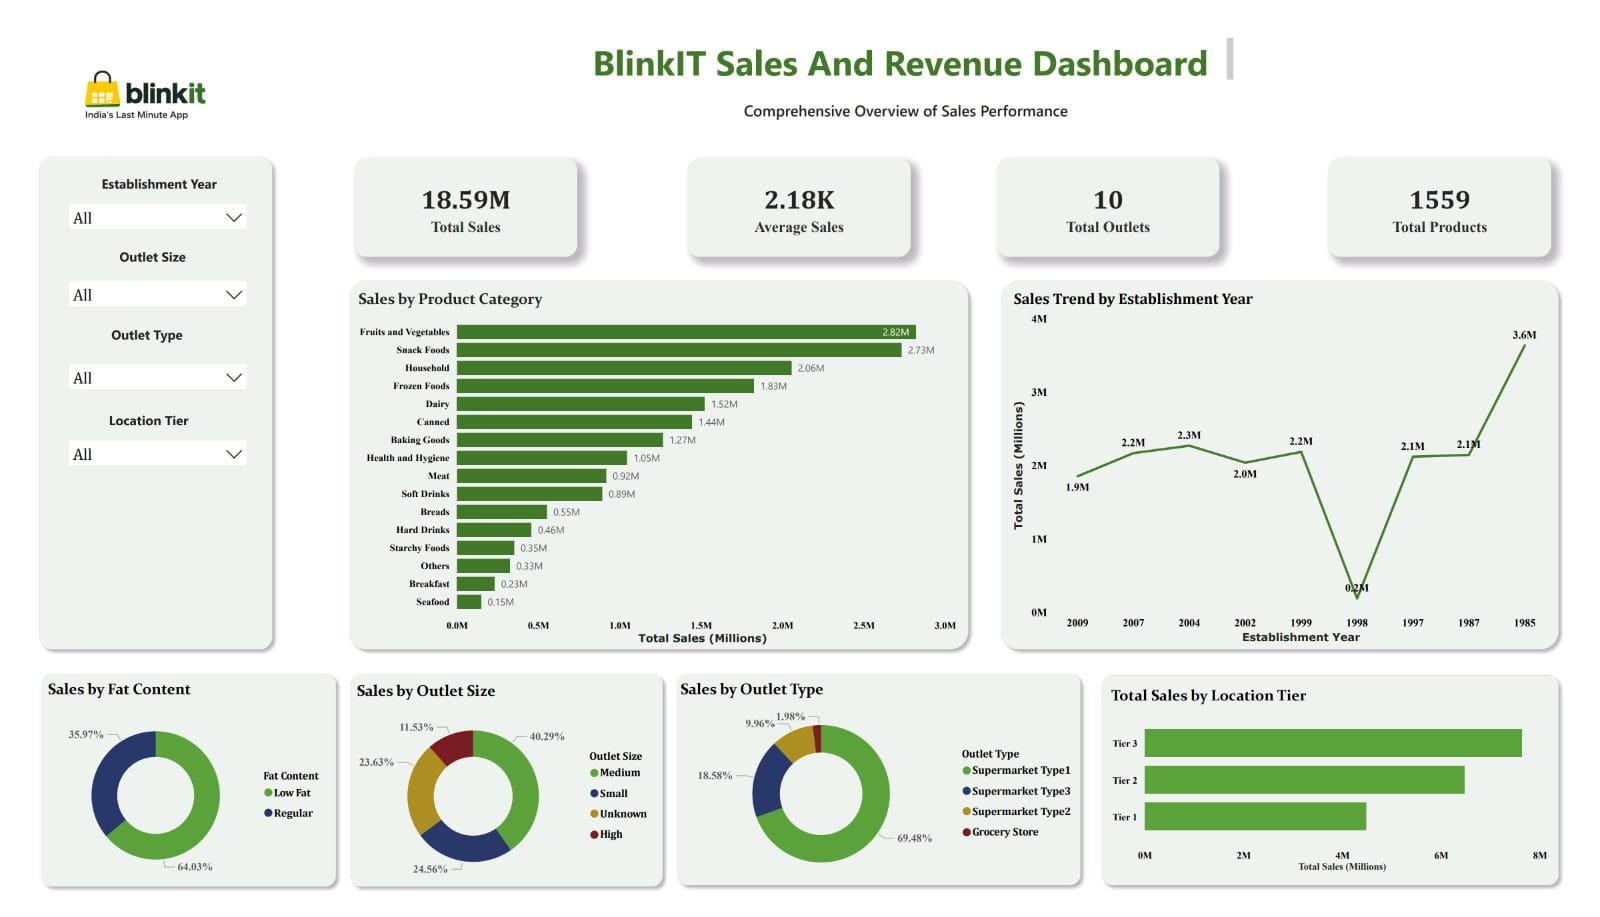

Layout of this report page (visuals, bound fields, positions):
{"tool":"powerbi","page":{"name":"Page 1","canvas":[1920,1080],"ordinal":0},"visuals":[{"type":"shape","box":[396,312,780,472],"z":0},{"type":"clusteredBarChart","title":"        Sales by Product Category","fields":{"Category":["BlinkIT_Sales.Product Category"],"Y":["BlinkIT_Sales.Total Sales"]},"box":[412,332,750,442],"z":1000},{"type":"shape","box":[16,160,304,624],"z":2000},{"type":"textbox","box":[1568,864,208,32],"z":3000},{"type":"textbox","box":[96,186,168,48],"z":4000},{"type":"textbox","box":[118,276,96,32],"z":5000},{"type":"textbox","box":[108.3,371.7,103.3,45],"z":6000},{"type":"textbox","box":[105,476.7,116.7,31.7],"z":7000},{"type":"textbox","box":[700,18.3,798.3,63.3],"z":8000},{"type":"textbox","box":[886,94,428,40],"z":9000},{"type":"slicer","fields":{"Values":["BlinkIT_Sales.Establishment Year"]},"box":[50,216,240,50],"z":10000},{"type":"slicer","fields":{"Values":["BlinkIT_Sales.Outlet Size"]},"box":[50,311.4,240,50],"z":11000},{"type":"slicer","fields":{"Values":["BlinkIT_Sales.Outlet Size"]},"box":[50,412.9,240,48.6],"z":12000},{"type":"slicer","fields":{"Values":["BlinkIT_Sales.Location Tier"]},"box":[50,507.1,240,48.6],"z":13000},{"type":"shape","box":[398,796,402,280],"z":14000},{"type":"donutChart","title":"Sales by Outlet Size","fields":{"Category":["BlinkIT_Sales.Outlet Size"],"Y":["BlinkIT_Sales.Total Sales"]},"box":[410,814,384,262],"z":15000},{"type":"shape","box":[800,796,514,278],"z":16000},{"type":"donutChart","title":"Sales by Outlet Type","fields":{"Category":["BlinkIT_Sales.Outlet Type"],"Y":["BlinkIT_Sales.Total Sales"]},"box":[810,810,500,260],"z":17000},{"type":"shape","box":[1198,312,704,472],"z":18000},{"type":"lineChart","title":"Sales Trend by Establishment Year","fields":{"Category":["BlinkIT_Sales.Establishment Year"],"Y":["BlinkIT_Sales.Total Sales"]},"box":[1218,332,666,440],"z":19000},{"type":"shape","box":[18,796,380,280],"z":20000},{"type":"shape","box":[1322,798,580,276],"z":21000},{"type":"clusteredBarChart","fields":{"Category":["BlinkIT_Sales.Location Tier"],"Y":["BlinkIT_Sales.Total Sales"]},"box":[1338,820,546,234],"z":22000},{"type":"card","fields":{"Values":["BlinkIT_Sales.Total Sales"]},"box":[412,170,274,122],"z":23000},{"type":"image","box":[0,0,320,210],"z":24000},{"type":"donutChart","title":"Sales by Fat Content","fields":{"Category":["BlinkIT_Sales.Fat Content"],"Y":["BlinkIT_Sales.Total Sales"]},"box":[30,812,366,264],"z":25000},{"type":"card","fields":{"Values":["BlinkIT_Sales.Average Sales"]},"box":[822,170,274,122],"z":26000},{"type":"card","fields":{"Values":["BlinkIT_Sales.Total Outlets"]},"box":[1202,170,274,122],"z":27000},{"type":"card","fields":{"Values":["BlinkIT_Sales.Total Products"]},"box":[1610,170,274,122],"z":28000}]}

Visuals, with their boxes in screenshot pixels (x1, y1, x2, y2), scaled from the page's 1920x1080 canvas onto the 1600x917 screenshot:
shape: bbox=[330, 265, 980, 666]
"        Sales by Product Category" clusteredBarChart: bbox=[343, 282, 968, 657]
shape: bbox=[13, 136, 267, 666]
textbox: bbox=[1307, 734, 1480, 761]
textbox: bbox=[80, 158, 220, 199]
textbox: bbox=[98, 234, 178, 262]
textbox: bbox=[90, 316, 176, 354]
textbox: bbox=[88, 405, 185, 432]
textbox: bbox=[583, 16, 1249, 69]
textbox: bbox=[738, 80, 1095, 114]
slicer - BlinkIT_Sales.Establishment Year: bbox=[42, 183, 242, 226]
slicer - BlinkIT_Sales.Outlet Size: bbox=[42, 264, 242, 307]
slicer - BlinkIT_Sales.Outlet Size: bbox=[42, 351, 242, 392]
slicer - BlinkIT_Sales.Location Tier: bbox=[42, 431, 242, 472]
shape: bbox=[332, 676, 667, 914]
"Sales by Outlet Size" donutChart: bbox=[342, 691, 662, 914]
shape: bbox=[667, 676, 1095, 912]
"Sales by Outlet Type" donutChart: bbox=[675, 688, 1092, 909]
shape: bbox=[998, 265, 1585, 666]
"Sales Trend by Establishment Year" lineChart: bbox=[1015, 282, 1570, 655]
shape: bbox=[15, 676, 332, 914]
shape: bbox=[1102, 678, 1585, 912]
clusteredBarChart - BlinkIT_Sales.Location Tier x BlinkIT_Sales.Total Sales: bbox=[1115, 696, 1570, 895]
card - BlinkIT_Sales.Total Sales: bbox=[343, 144, 572, 248]
image: bbox=[0, 0, 267, 178]
"Sales by Fat Content" donutChart: bbox=[25, 689, 330, 914]
card - BlinkIT_Sales.Average Sales: bbox=[685, 144, 913, 248]
card - BlinkIT_Sales.Total Outlets: bbox=[1002, 144, 1230, 248]
card - BlinkIT_Sales.Total Products: bbox=[1342, 144, 1570, 248]
